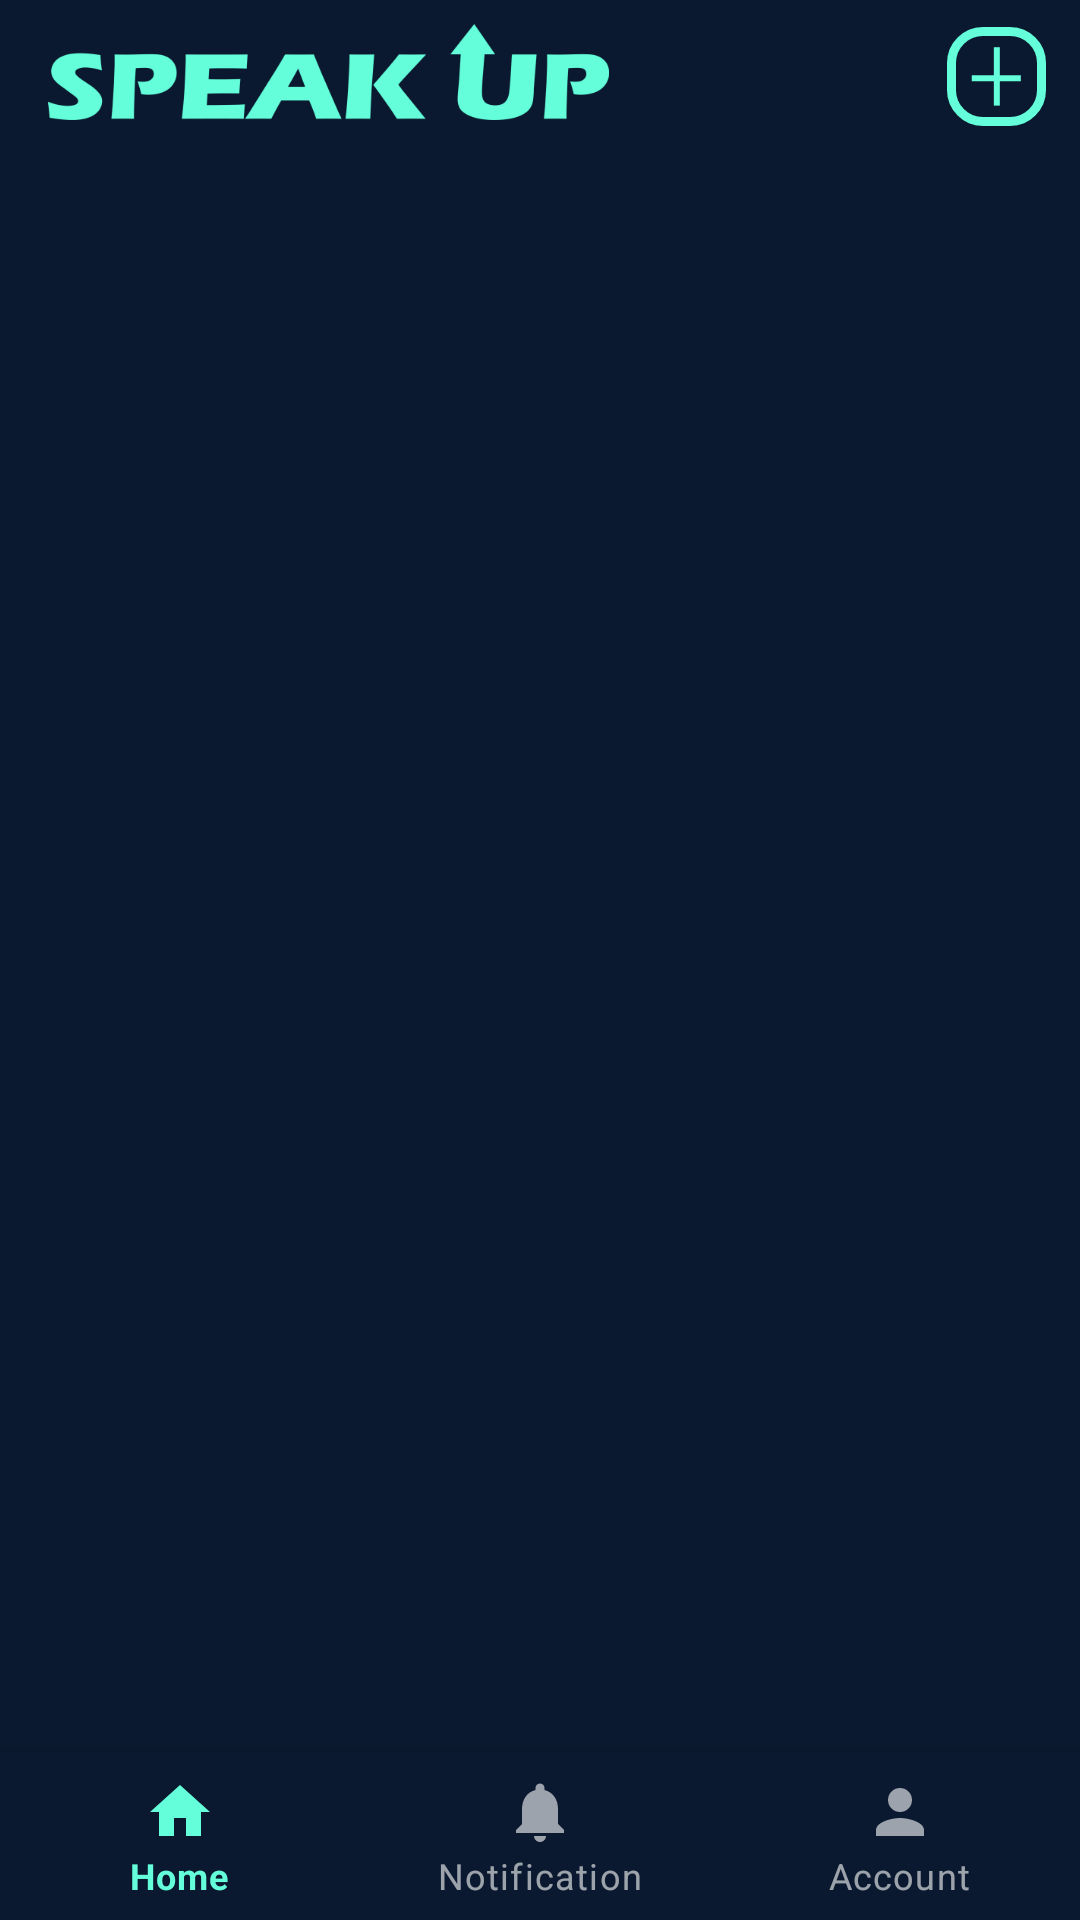

Icons on this 1080*1920 Android screen, each with its box as (x1, y1, x2, y2):
postbtn: (947, 27, 1046, 126)
